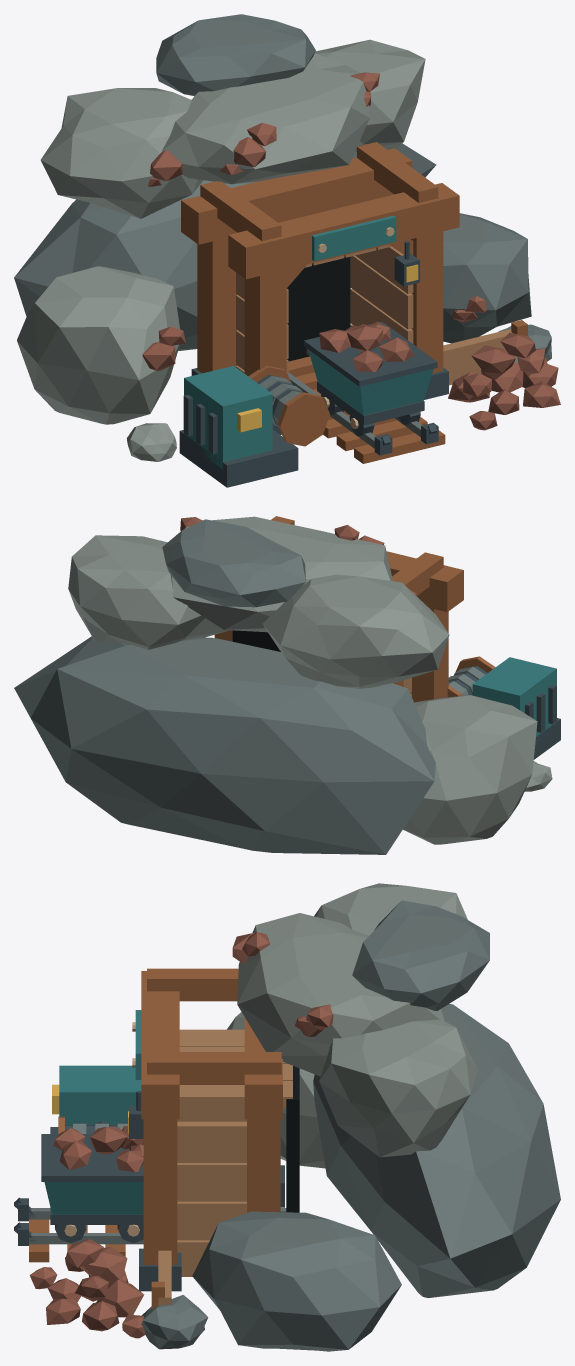
Rendered from iron_mine.glb.
3 renders of one model, top to bottom at view 1: azimuth 30°, elevation 25°; view 2: azimuth 150°, elevation 25°; view 3: azimuth 270°, elevation 25°, orthographic. The views are drawn at different scales.
Parts seen in each view (by area): view 1: Iron mine Stone, Iron mine Timber, Iron mine Dark stone, Iron mine Iron ore, Iron mine Teal, Iron mine Iron, Iron mine Planks, Iron mine Tunnel dark, Iron mine Steel, Iron mine Amber; view 2: Iron mine Dark stone, Iron mine Stone, Iron mine Timber, Iron mine Teal, Iron mine Iron, Iron mine Tunnel dark, Iron mine Iron ore, Iron mine Steel; view 3: Iron mine Dark stone, Iron mine Stone, Iron mine Timber, Iron mine Planks, Iron mine Iron ore, Iron mine Teal, Iron mine Iron, Iron mine Tunnel dark, Iron mine Steel.
Part boxes in pixels (box(x1,y1,x2,y2)): Iron mine Stone: box(17, 39, 425, 461); Iron mine Timber: box(181, 142, 527, 463); Iron mine Dark stone: box(14, 14, 551, 362); Iron mine Iron ore: box(142, 72, 560, 430); Iron mine Teal: box(184, 215, 433, 469); Iron mine Iron: box(179, 241, 448, 487); Iron mine Planks: box(236, 244, 512, 385); Iron mine Tunnel dark: box(287, 257, 350, 361); Iron mine Steel: box(259, 348, 422, 448); Iron mine Amber: box(237, 264, 418, 432); Iron mine Dark stone: box(14, 519, 435, 854); Iron mine Stone: box(68, 516, 552, 844); Iron mine Timber: box(214, 516, 495, 702); Iron mine Teal: box(472, 657, 556, 743); Iron mine Iron: box(448, 665, 560, 759); Iron mine Tunnel dark: box(232, 630, 280, 651); Iron mine Iron ore: box(180, 517, 416, 594); Iron mine Steel: box(448, 666, 484, 695); Iron mine Dark stone: box(141, 900, 560, 1351); Iron mine Stone: box(227, 883, 477, 1168); Iron mine Timber: box(29, 968, 282, 1308); Iron mine Planks: box(158, 1029, 292, 1305); Iron mine Iron ore: box(29, 932, 333, 1338); Iron mine Teal: box(44, 1010, 143, 1214); Iron mine Iron: box(14, 1091, 284, 1291); Iron mine Tunnel dark: box(286, 1066, 299, 1212); Iron mine Steel: box(29, 1123, 286, 1244).
Bounding box in the file's own units: 2.74 × 1.53 × 2.44.
